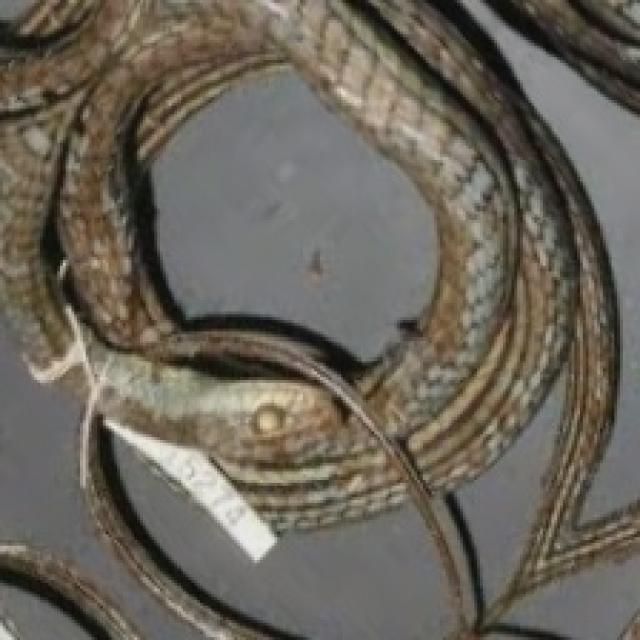luzon bronzeback treesnake: (0, 0, 637, 637)
